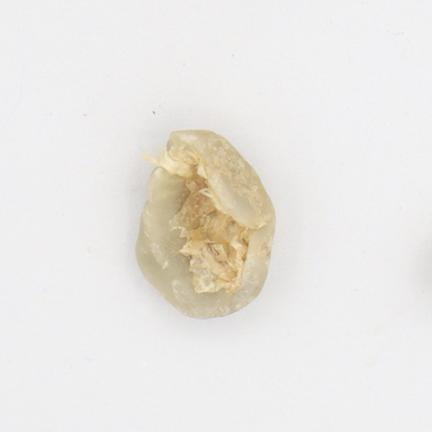shell: (137, 130, 275, 318)
